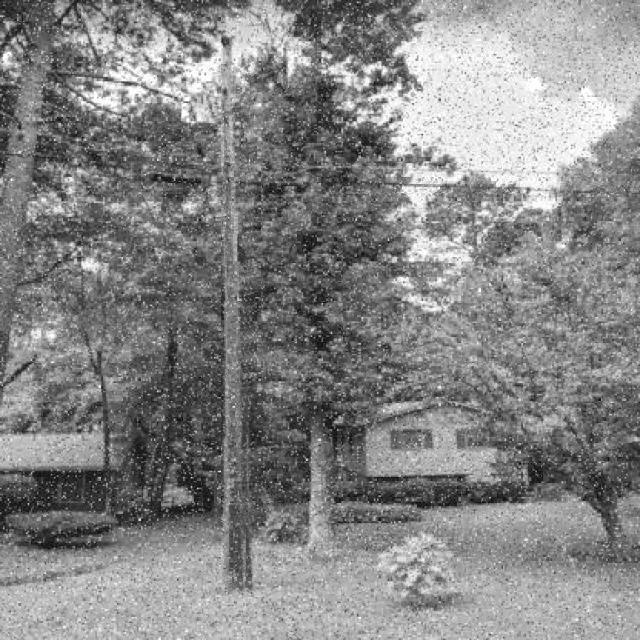pole: (221, 65, 249, 596)
wire: (331, 181, 639, 193)
